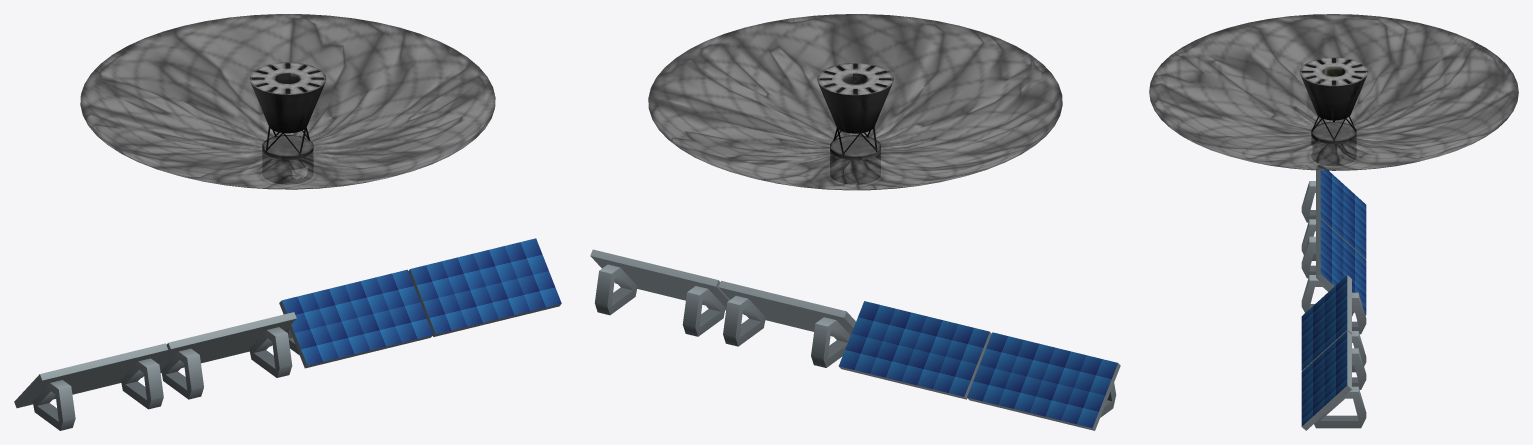
Rendered from lattice_relay.glb.
3 renders of one model, left to right at view 1: azimuth 30°, elevation 25°; view 2: azimuth 150°, elevation 25°; view 3: azimuth 270°, elevation 25°, orthographic. The views are drawn at different scales.
Parts seen in each view (by area): view 1: n_umbrella.2, kk_solar.5, kk_solar.6, kk_solar.8, kk_solar.7; view 2: n_umbrella.2, kk_solar.8, kk_solar.7, kk_solar.6, kk_solar.5; view 3: n_umbrella.2, kk_solar.6, kk_solar.5, kk_solar.8, kk_solar.7.
Part boxes in pixels (x1=…): n_umbrella.2: x1=80, y1=14, x2=495, y2=189; kk_solar.5: x1=279, y1=269, x2=433, y2=368; kk_solar.6: x1=408, y1=238, x2=561, y2=336; kk_solar.8: x1=14, y1=343, x2=168, y2=430; kk_solar.7: x1=157, y1=312, x2=296, y2=399; n_umbrella.2: x1=648, y1=14, x2=1062, y2=190; kk_solar.8: x1=967, y1=332, x2=1120, y2=430; kk_solar.7: x1=838, y1=301, x2=991, y2=399; kk_solar.6: x1=590, y1=249, x2=729, y2=336; kk_solar.5: x1=718, y1=280, x2=855, y2=367; n_umbrella.2: x1=1149, y1=14, x2=1518, y2=170; kk_solar.6: x1=1301, y1=331, x2=1366, y2=430; kk_solar.5: x1=1301, y1=275, x2=1366, y2=372; kk_solar.8: x1=1301, y1=165, x2=1366, y2=260; kk_solar.7: x1=1301, y1=219, x2=1366, y2=316.
Size of the model in its own units: 1.42 by 0.7484 by 1.
Materials: 3 (3 with a texture image).
